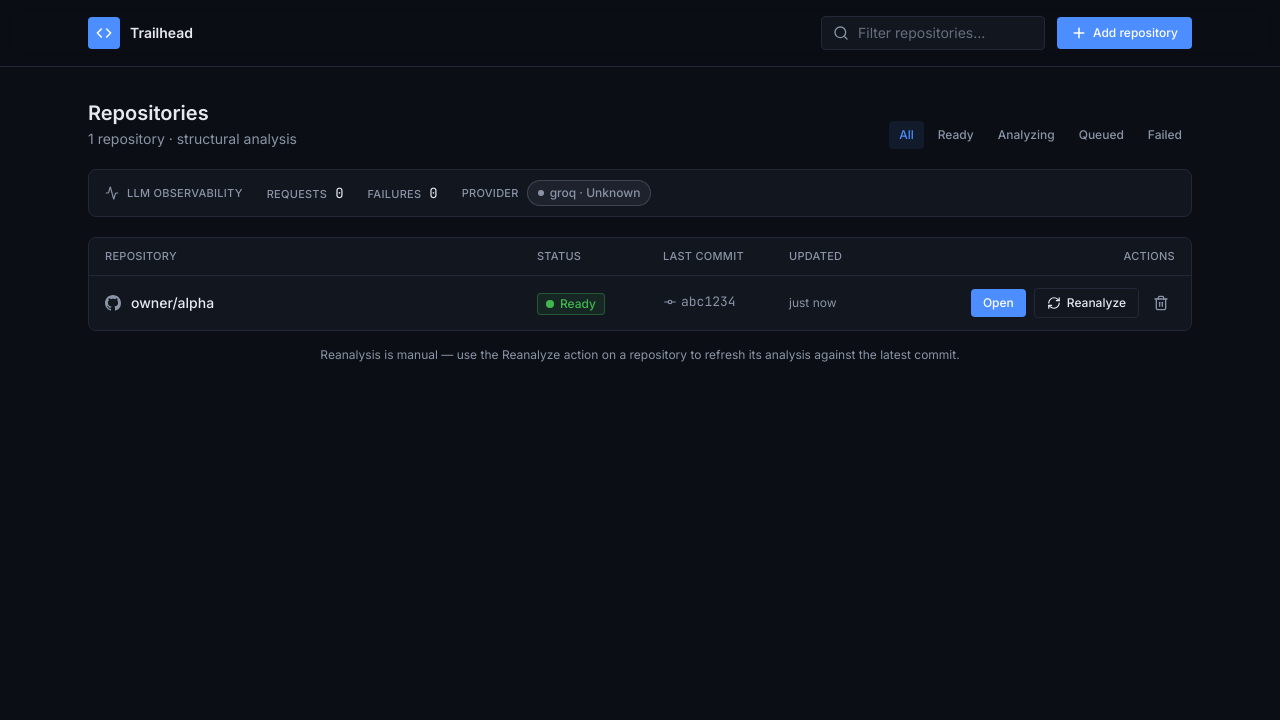
Test: DASH-05 — zero-repositories and zero-filter-results are distinct states › shows the distinct no-matches state when repositories exist but none match the filter
Expected: the text "owner/alpha" is shown, top-left (131, 292), bottom-right (214, 312)
In the field labelled "Filter repositories": x=933, y=33 top-left (821, 16), bottom-right (1045, 50), type "zzz-no-such-repo"
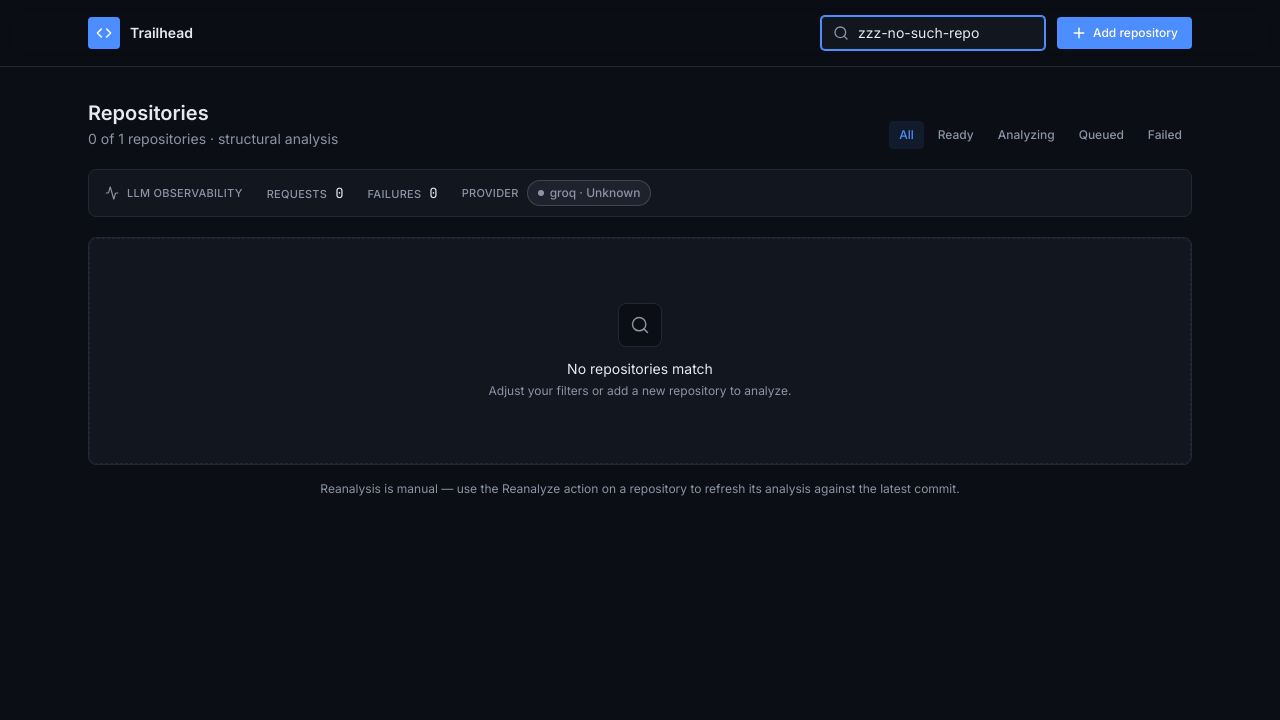
Expected: the text "No repositories match" is shown, top-left (567, 359), bottom-right (713, 379)
